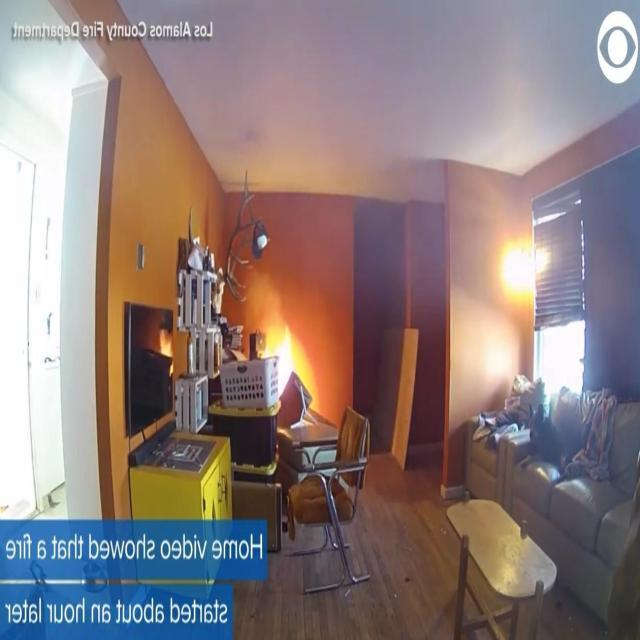smoke: (266, 316, 306, 399)
